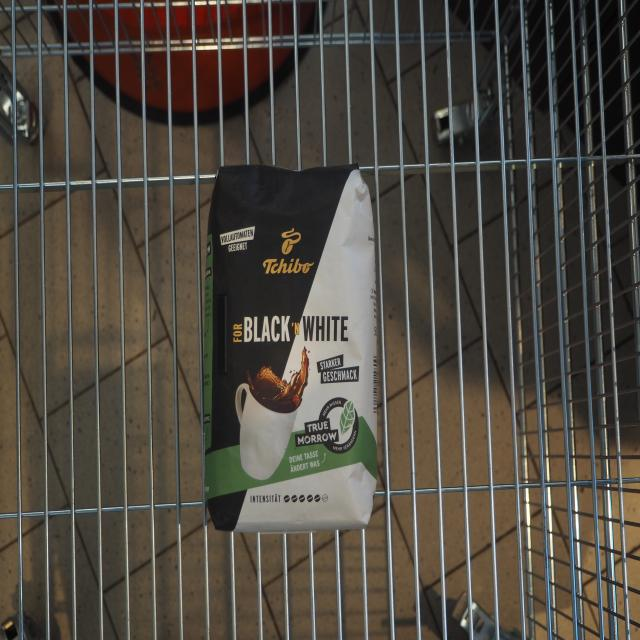BW Bohne: (198, 156, 380, 540)
